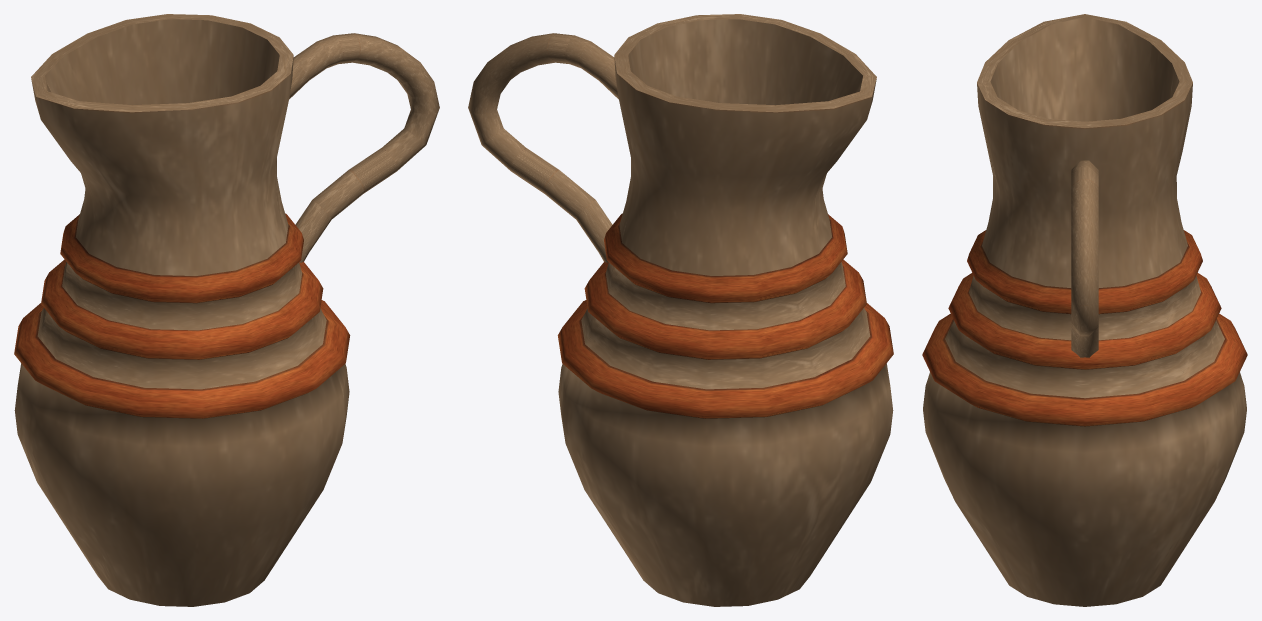
File: pitcher.glb
The picture shows the model from 3 angles, left to right: view 1: azimuth 30°, elevation 25°; view 2: azimuth 150°, elevation 25°; view 3: azimuth 270°, elevation 25°; orthographic projection. The views are drawn at different scales.
Parts seen in each view (by area): view 1: Object_24; view 2: Object_24; view 3: Object_24.
Boxes of the visible parts, bbox=[...] form: Object_24: bbox=[14, 14, 439, 606]; Object_24: bbox=[468, 14, 893, 606]; Object_24: bbox=[922, 14, 1247, 606].
Bounding box in the file's own units: 0.2102 × 0.2559 × 0.1535.
Materials: 1 (1 with a texture image).
